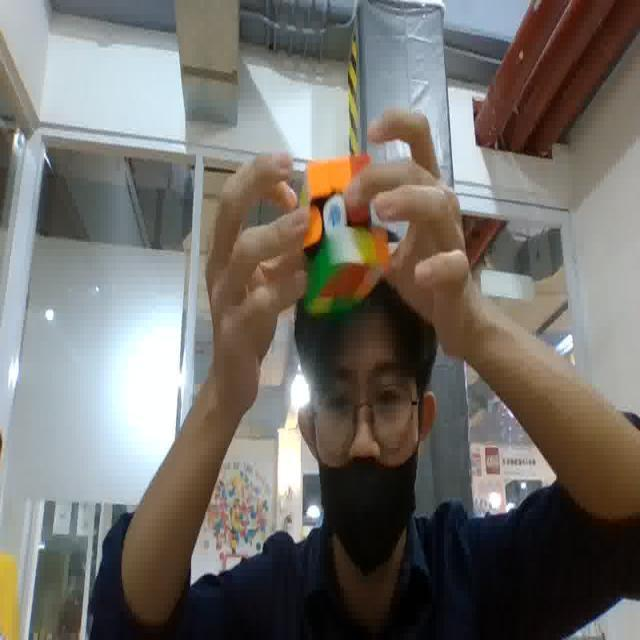Rub: (296, 158, 388, 314)
